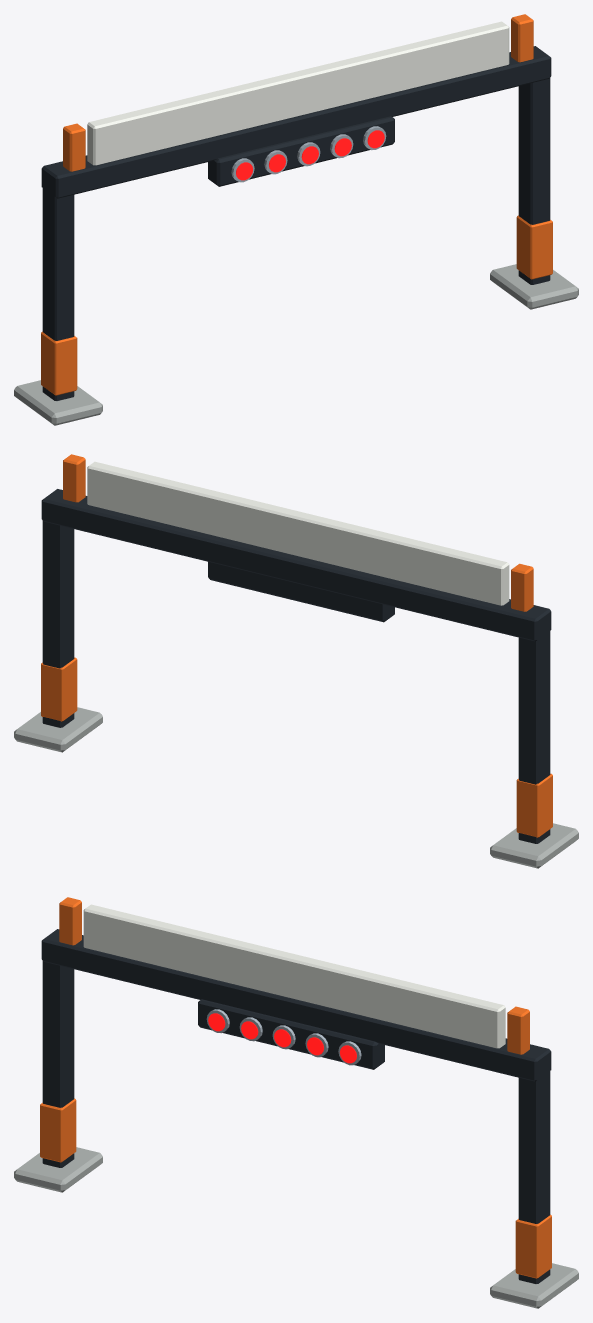
Rendered from start_finish_gantry.glb.
3 views of the same model, one above another, from view 1: azimuth 30°, elevation 25°; view 2: azimuth 150°, elevation 25°; view 3: azimuth 330°, elevation 25° (orthographic).
Parts seen in each view (by area): view 1: start_finish_gantry__static, start_finish_gantry; view 2: start_finish_gantry__static; view 3: start_finish_gantry__static, start_finish_gantry.
Boxes of the visible parts, x1=… form: start_finish_gantry__static: x1=14, y1=14, x2=578, y2=425; start_finish_gantry: x1=236, y1=130, x2=384, y2=180; start_finish_gantry__static: x1=14, y1=454, x2=578, y2=868; start_finish_gantry__static: x1=14, y1=897, x2=578, y2=1308; start_finish_gantry: x1=208, y1=1013, x2=356, y2=1063.
Size of the model in its own units: 13.3 by 6.68 by 1.8.
